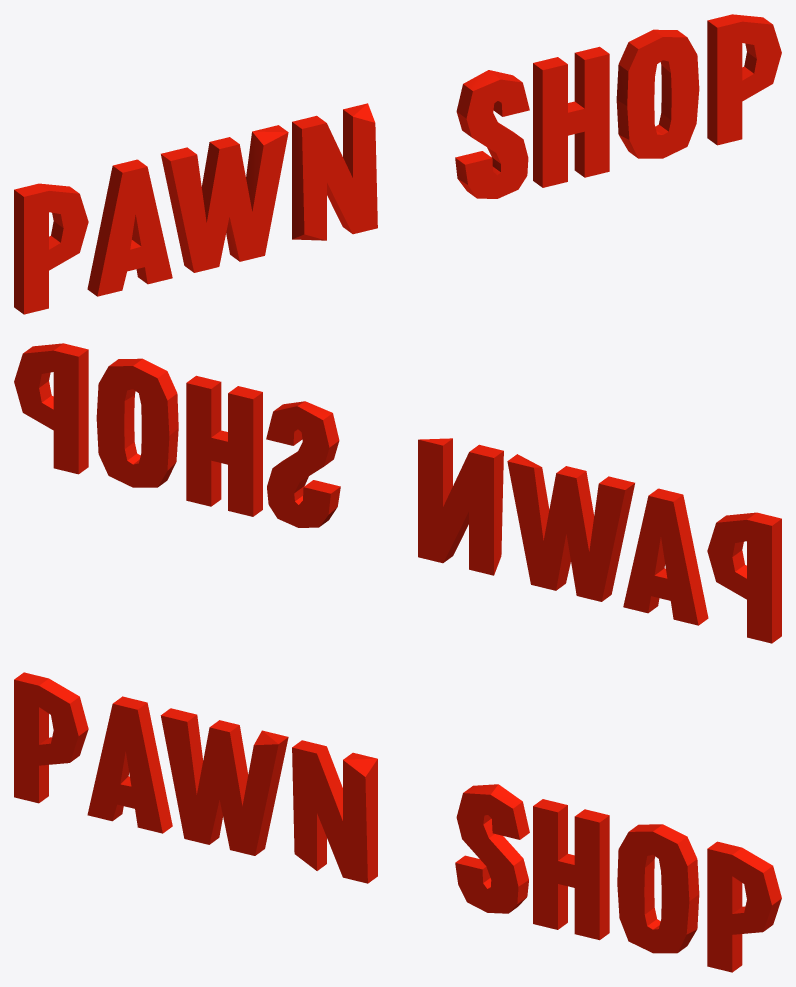
The model's file is CombinedText3D.obj.
3 renders of one model, top to bottom at view 1: azimuth 30°, elevation 25°; view 2: azimuth 150°, elevation 25°; view 3: azimuth 330°, elevation 25°, orthographic.
Visible parts, largest first — view 1: CombinedText3D_0; view 2: CombinedText3D_0; view 3: CombinedText3D_0.
Part boxes in pixels (x1=…): CombinedText3D_0: x1=14, y1=14, x2=781, y2=314; CombinedText3D_0: x1=14, y1=343, x2=781, y2=643; CombinedText3D_0: x1=14, y1=672, x2=781, y2=972.
Size of the model in its own units: 4.81 by 0.7379 by 0.1093.
